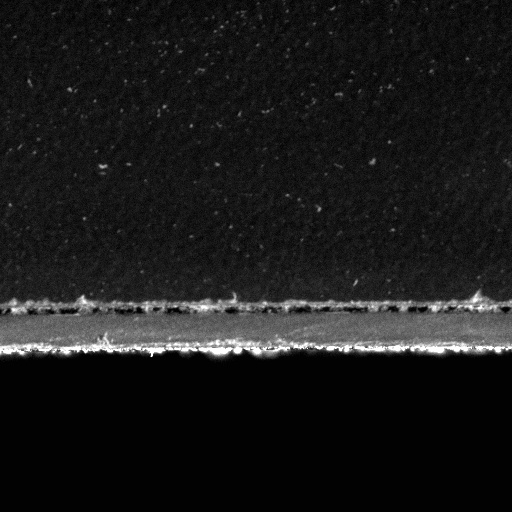jiaofeng: (0, 300, 194, 320), (217, 302, 458, 318)
